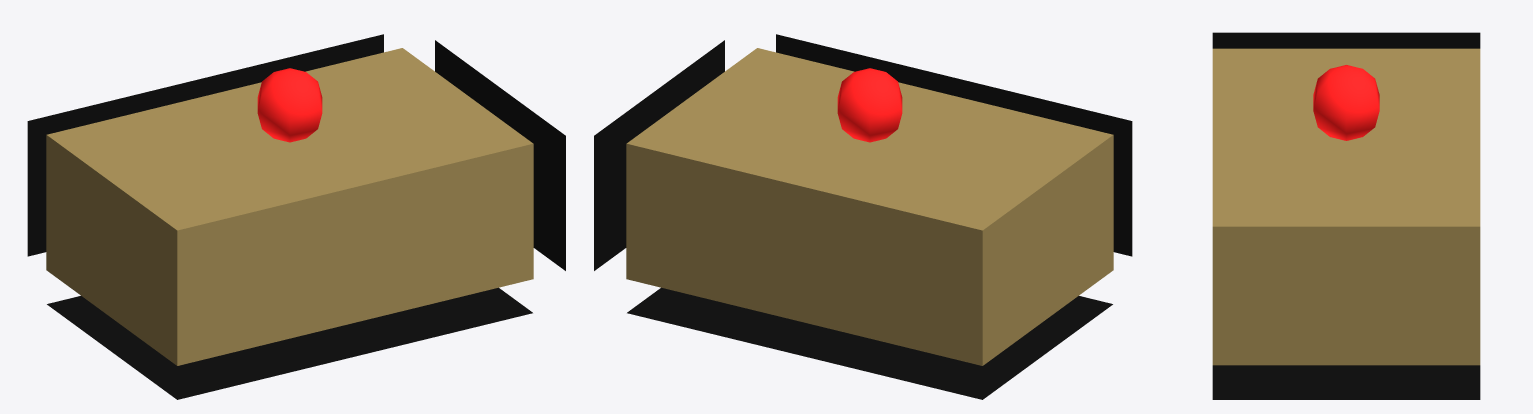
The model's file is equipment_c4.glb.
The picture shows the model from 3 angles, left to right: view 1: azimuth 30°, elevation 25°; view 2: azimuth 150°, elevation 25°; view 3: azimuth 270°, elevation 25°; orthographic projection. The views are drawn at different scales.
Parts seen in each view (by area): view 1: equipment_c4__part_1, equipment_c4__outline_2, equipment_c4__part_3; view 2: equipment_c4__part_1, equipment_c4__outline_2, equipment_c4__part_3; view 3: equipment_c4__part_1, equipment_c4__outline_2, equipment_c4__part_3.
Boxes of the visible parts, x1=… form: equipment_c4__part_1: x1=46, y1=48, x2=533, y2=365; equipment_c4__outline_2: x1=27, y1=34, x2=565, y2=399; equipment_c4__part_3: x1=257, y1=68, x2=322, y2=142; equipment_c4__part_1: x1=626, y1=48, x2=1113, y2=365; equipment_c4__outline_2: x1=594, y1=34, x2=1132, y2=399; equipment_c4__part_3: x1=837, y1=68, x2=902, y2=142; equipment_c4__part_1: x1=1212, y1=48, x2=1480, y2=365; equipment_c4__outline_2: x1=1212, y1=32, x2=1480, y2=399; equipment_c4__part_3: x1=1313, y1=65, x2=1379, y2=140.
Size of the model in its own units: 0.26 by 0.14 by 0.18.
